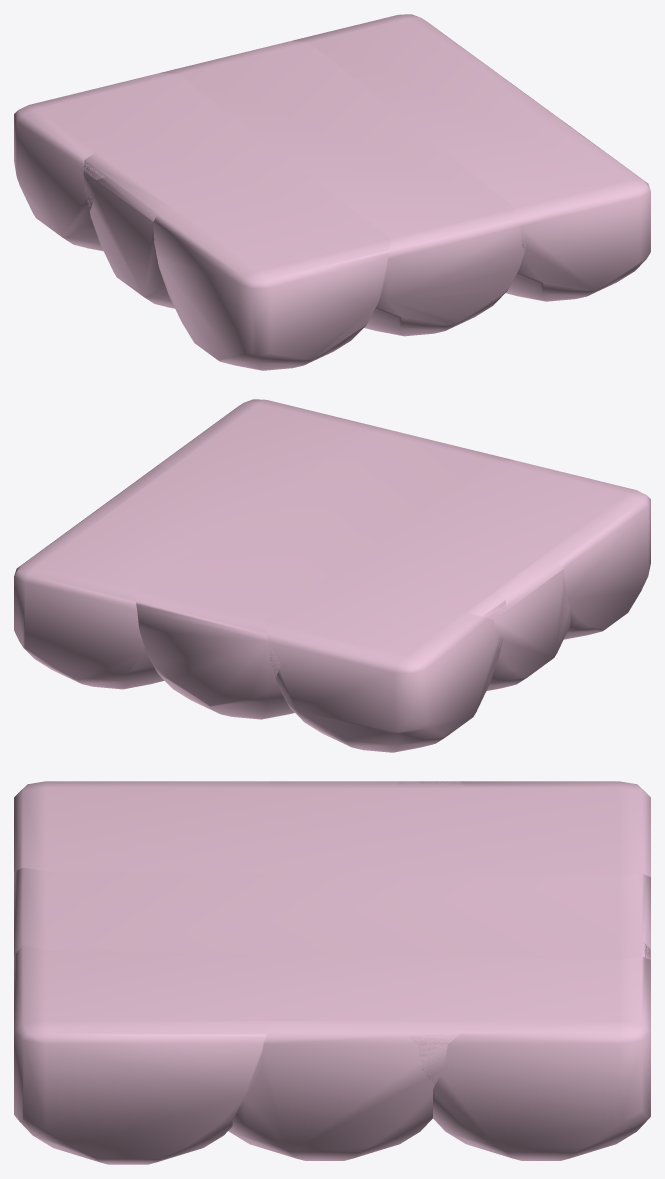
Rendered from Cloud_hp.fbx.
3 renders of one model, top to bottom at view 1: azimuth 30°, elevation 25°; view 2: azimuth 150°, elevation 25°; view 3: azimuth 270°, elevation 25°, orthographic. The views are drawn at different scales.
Parts seen in each view (by area): view 1: cloud; view 2: cloud; view 3: cloud.
Boxes of the visible parts, x1,y1,x2,y2 form: cloud: [14, 14, 650, 370]; cloud: [14, 399, 650, 752]; cloud: [14, 781, 650, 1164].
Bounding box in the file's own units: 557 × 157 × 577.
